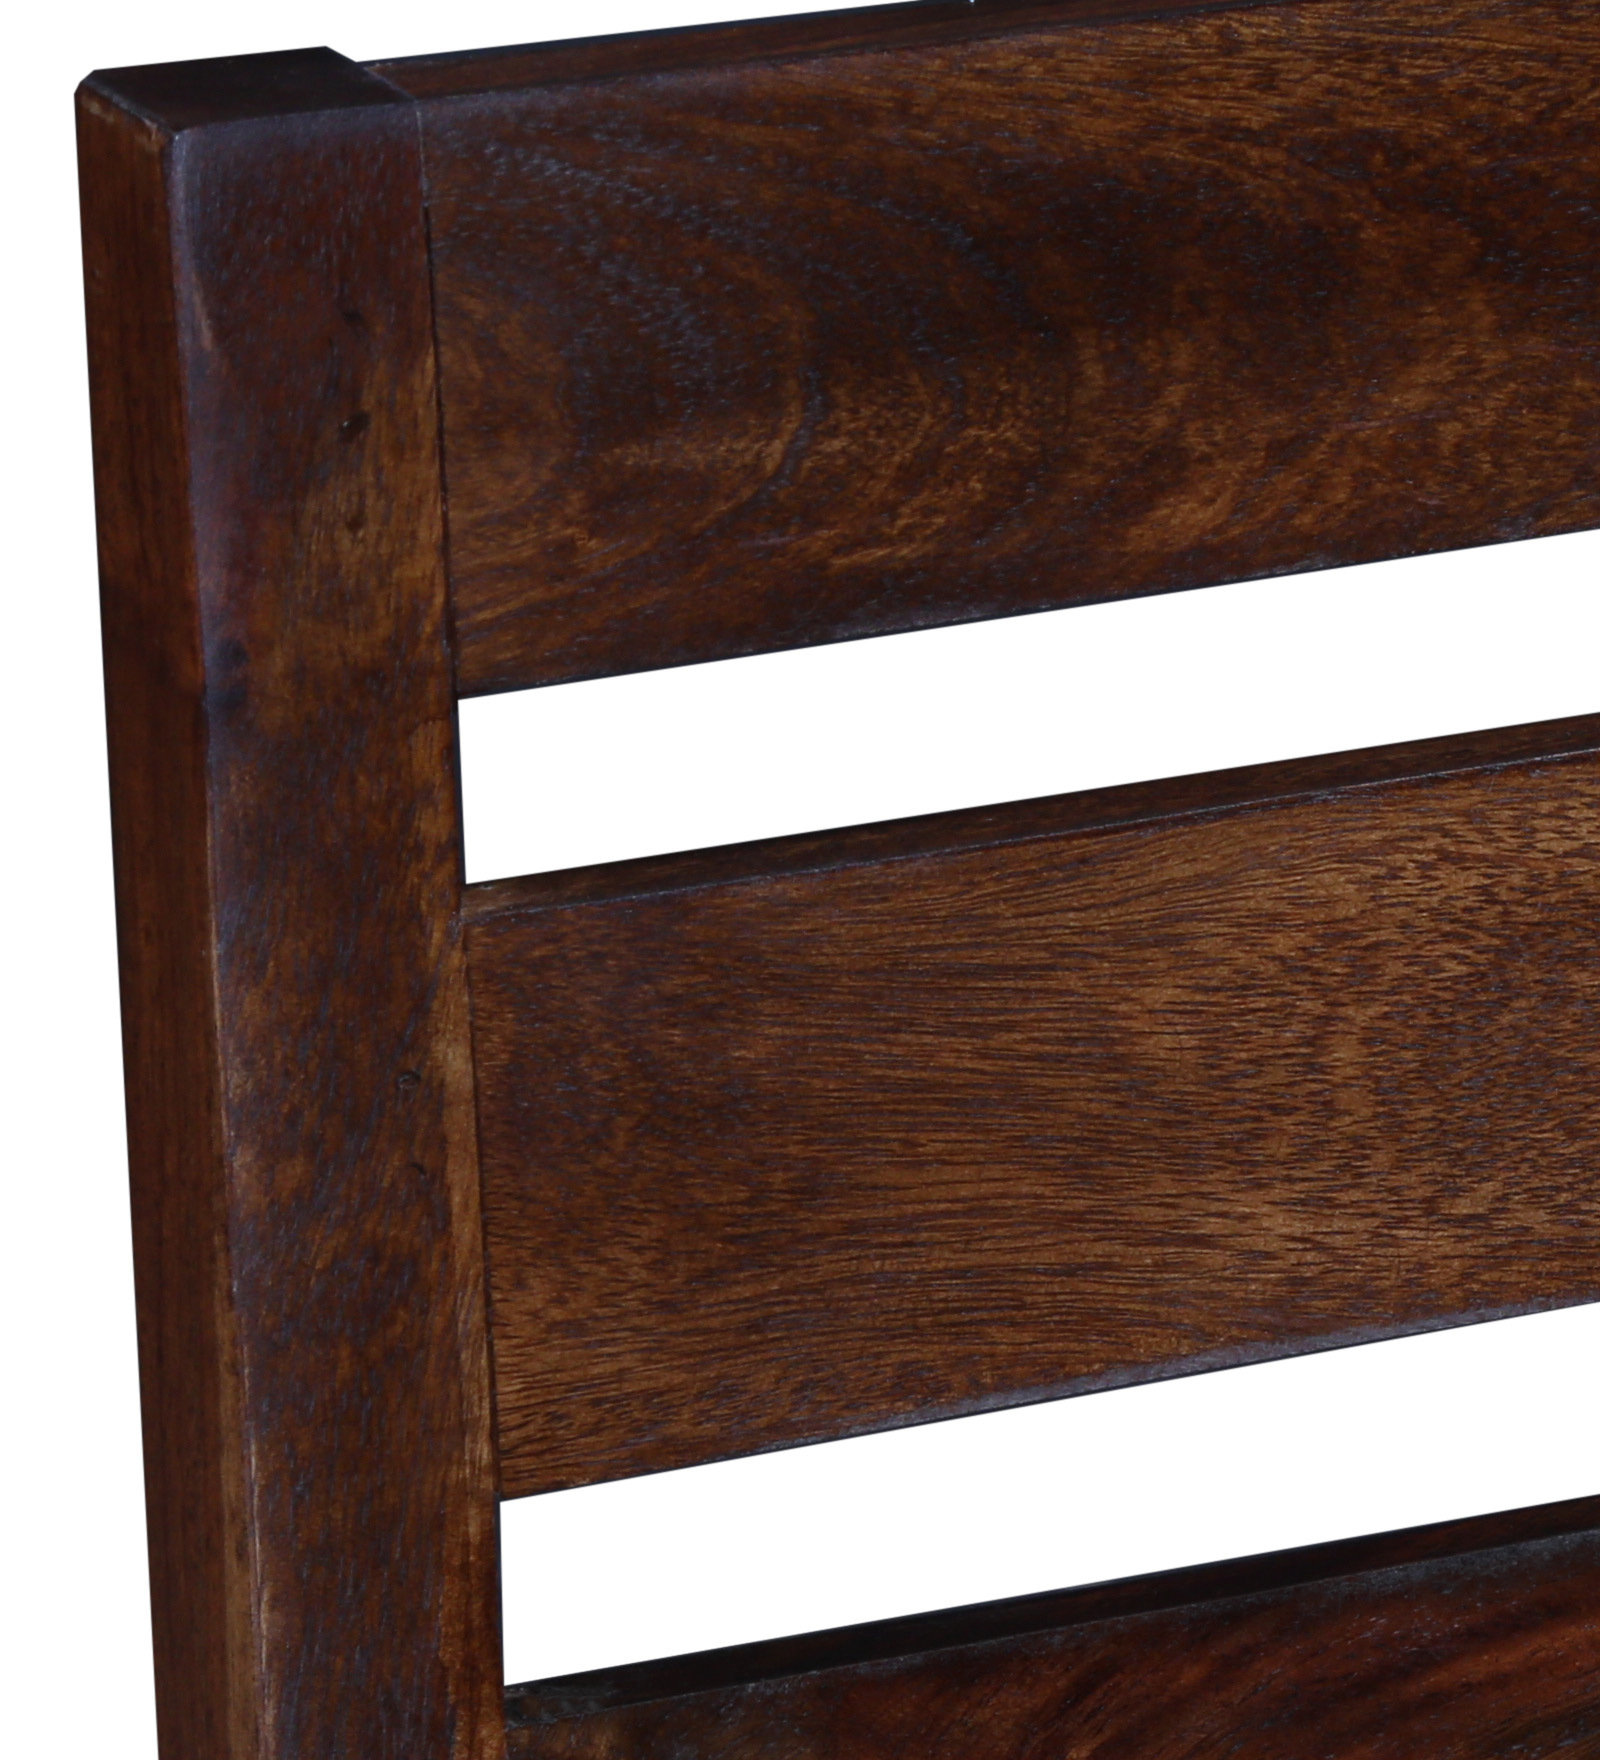Stigen Arm Chair in Provincial Teak Finish by Woodsworth: (54, 48, 1600, 1760)
